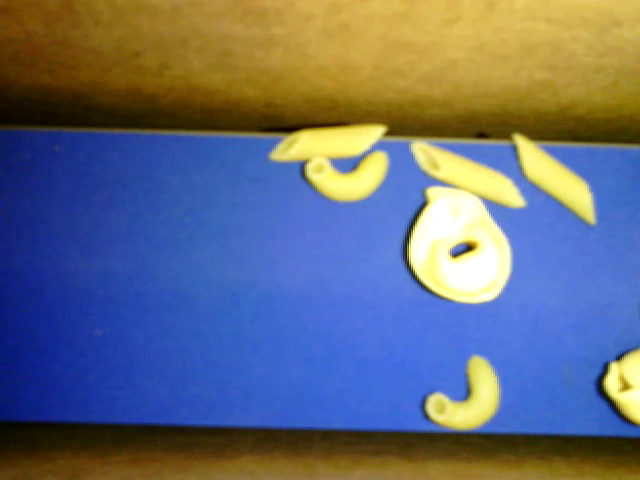elbow: (424, 354, 498, 430), (304, 149, 391, 203)
penne: (513, 131, 596, 224), (410, 141, 525, 207), (268, 122, 389, 161)
tortellini: (405, 186, 512, 304)
